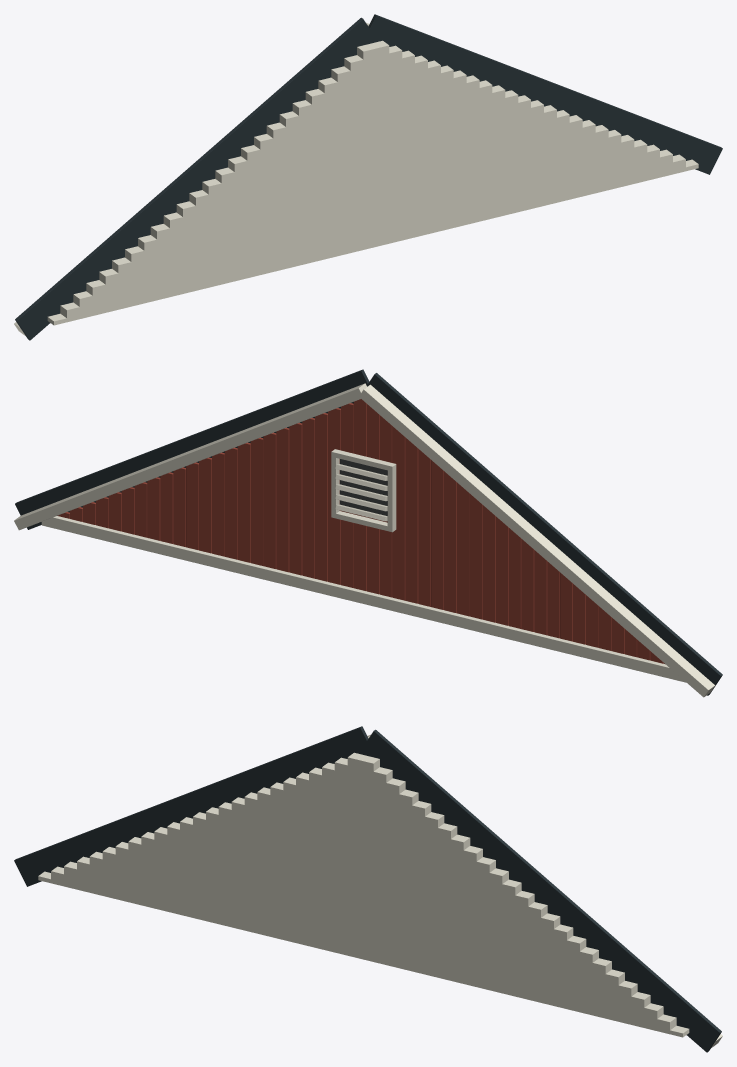
The model's file is warehouse_gable_8m.glb.
3 renders of one model, top to bottom at view 1: azimuth 30°, elevation 25°; view 2: azimuth 150°, elevation 25°; view 3: azimuth 330°, elevation 25°, orthographic.
Visible parts, largest first — view 1: Structure; view 2: Structure; view 3: Structure.
Part boxes in pixels (<box>): Structure: <box>14,14,722,340</box>; Structure: <box>14,369,722,697</box>; Structure: <box>14,726,722,1052</box>.
Bounding box in the file's own units: 8.76 × 2.85 × 0.3442.
